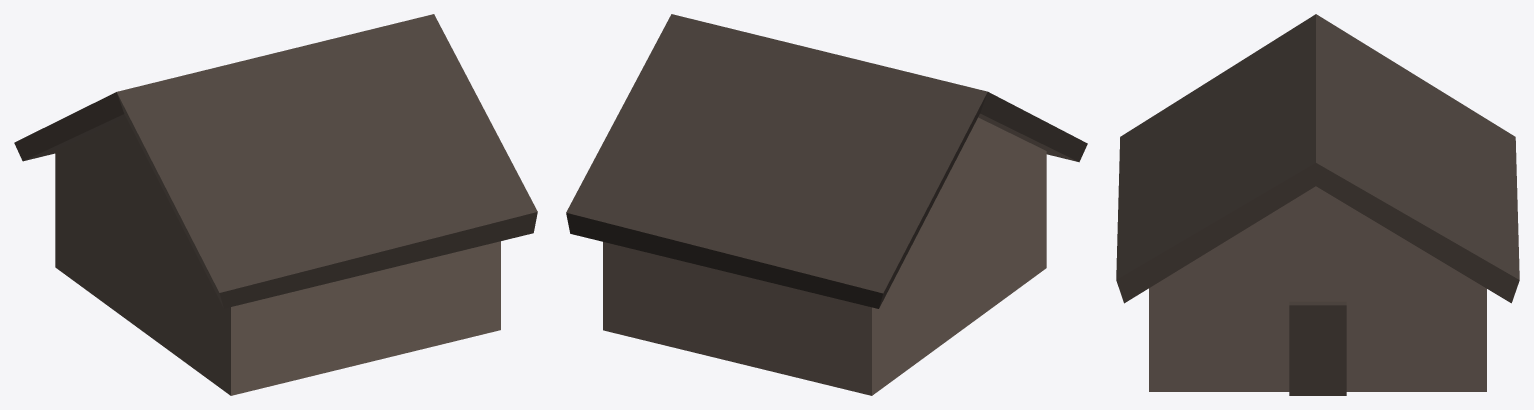
The model's file is Casa_blocking.fbx.
3 views of the same model, side by side, from view 1: azimuth 30°, elevation 25°; view 2: azimuth 150°, elevation 25°; view 3: azimuth 270°, elevation 25° (orthographic). The views are drawn at different scales.
Parts seen in each view (by area): view 1: pCube45, pCube20; view 2: pCube45, pCube20; view 3: pCube45, pCube20, pCube41.
Part boxes in pixels (box(x1,y1,x2,y2)): pCube45: box(14, 14, 537, 308); pCube20: box(55, 118, 500, 395); pCube45: box(566, 14, 1087, 308); pCube20: box(603, 117, 1046, 395); pCube45: box(1116, 14, 1519, 303); pCube20: box(1149, 186, 1486, 391); pCube41: box(1289, 301, 1346, 395).
Size of the model in its own units: 12.48 by 9.32 by 14.27.
